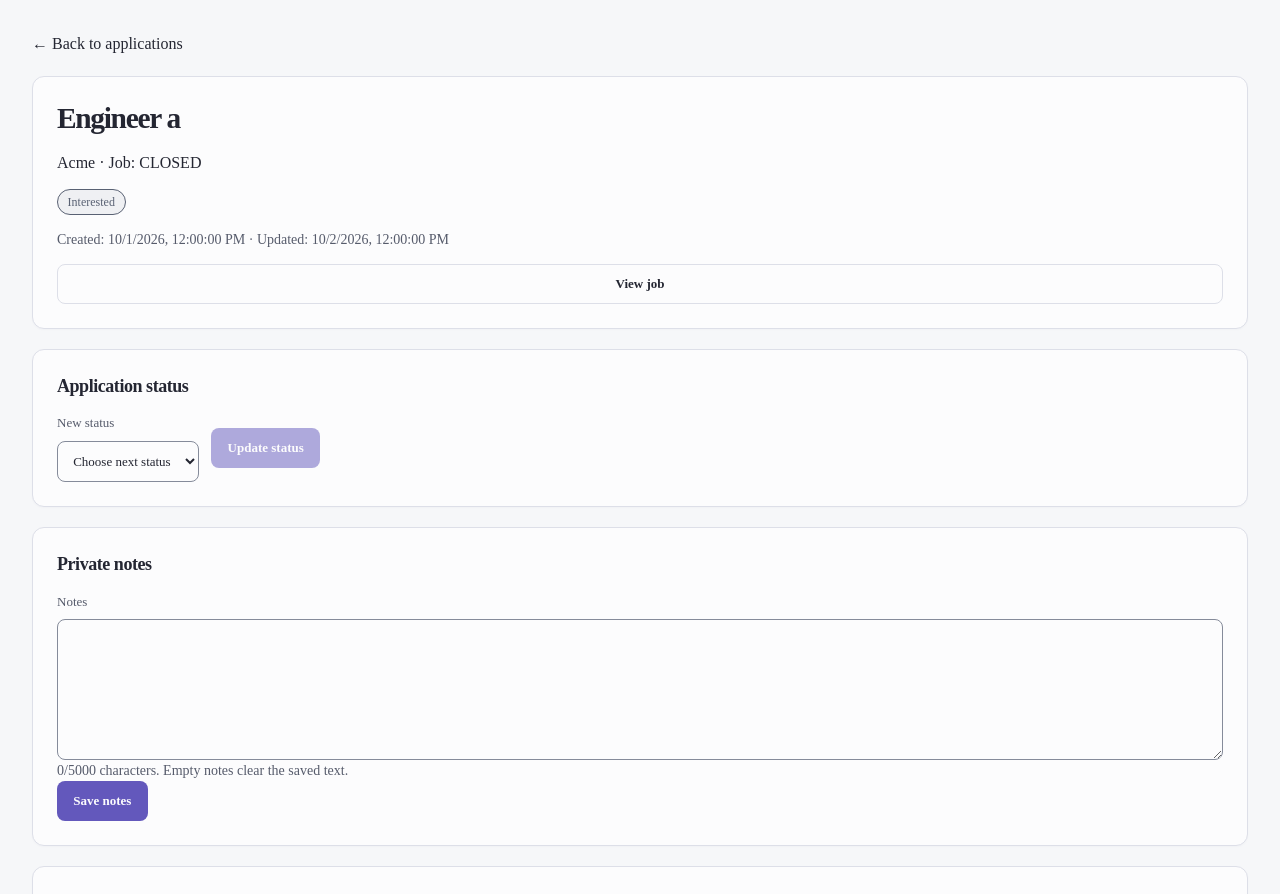
Scenario: Application management › retains prior status when backend rejects a transition
The width and height of the screenshot is (1280, 894).
Check: the heading "Engineer a" is shown, box [57,102,180,134]
Select "Applied" in the dropdown labelled "New status": (128, 462) [57,441,199,482]
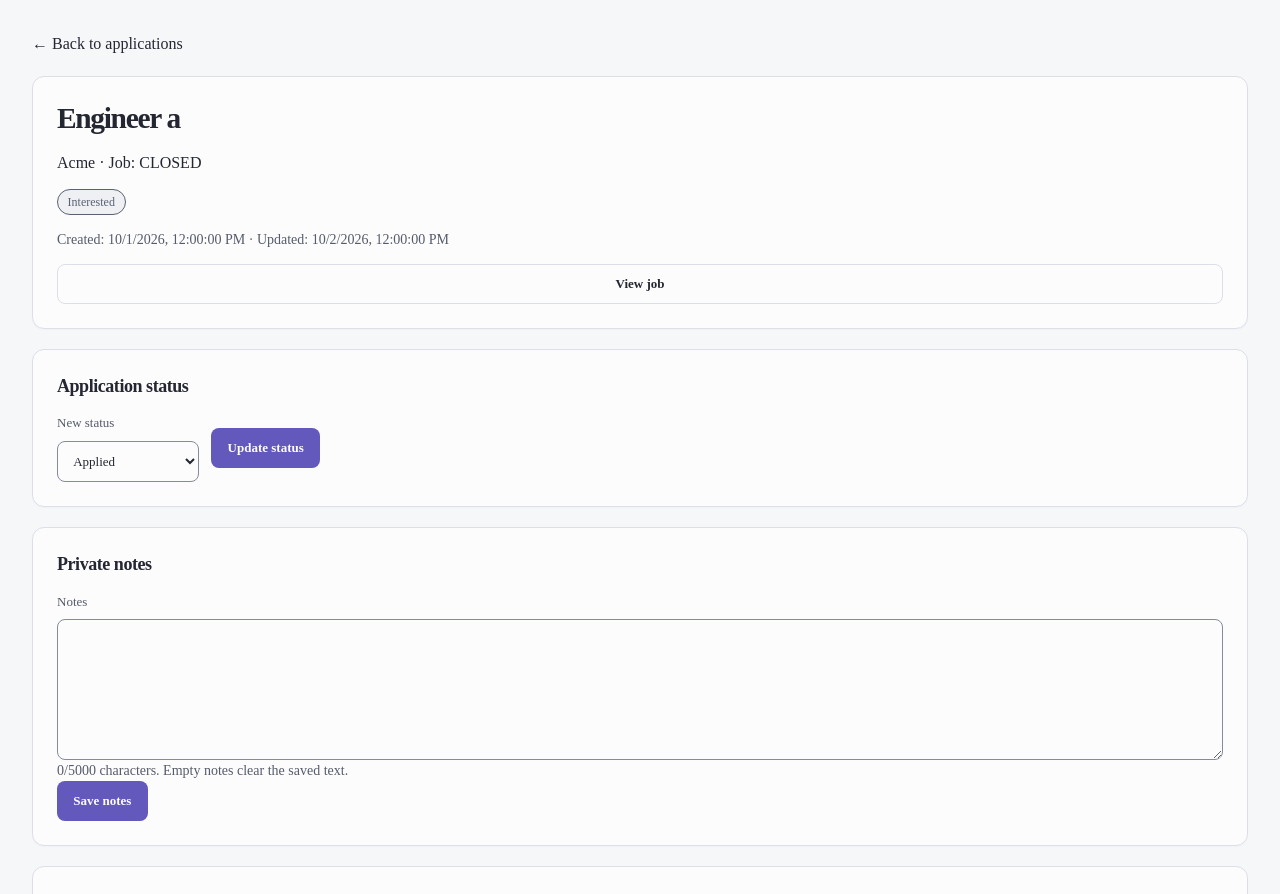
Click the button "Update status": click(266, 448) [211,428,320,468]
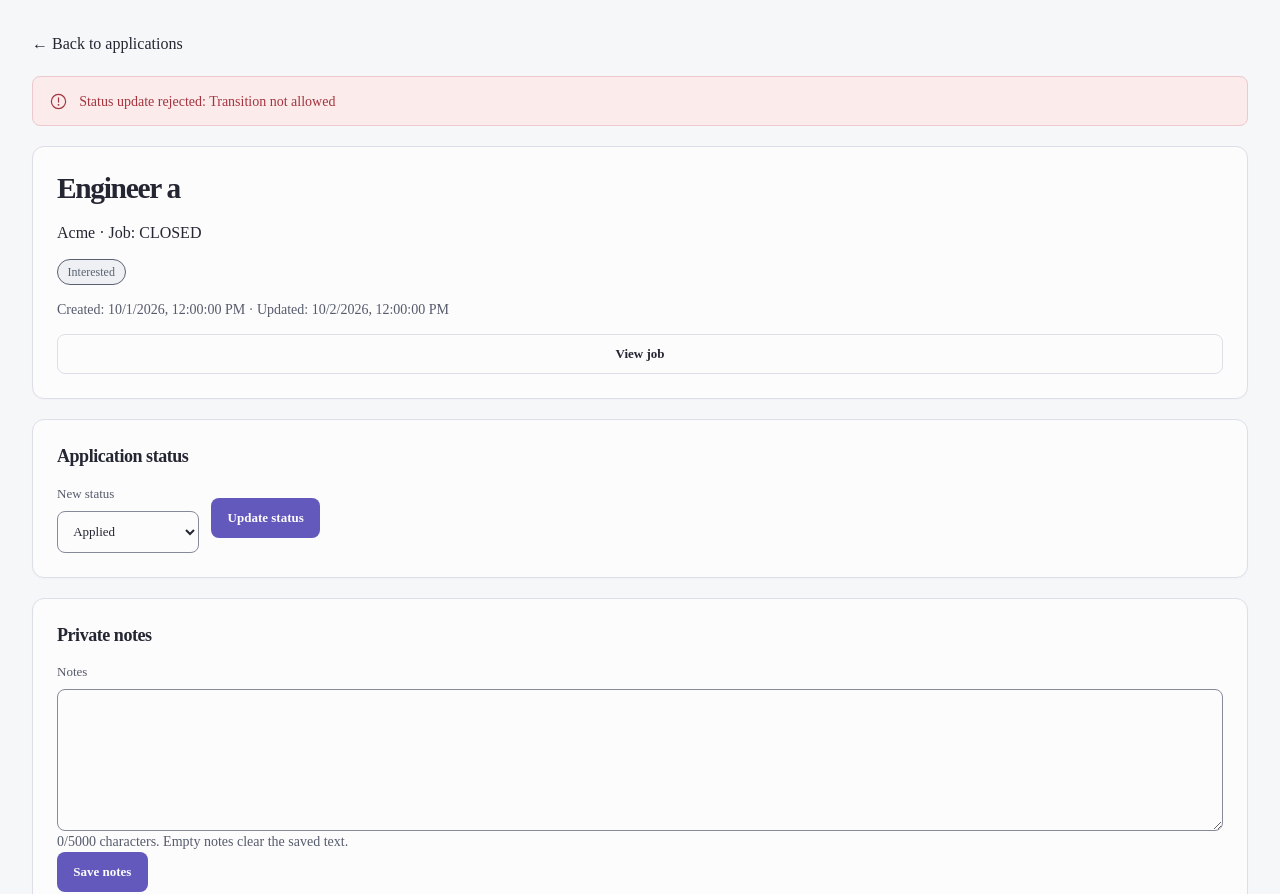
Check: the text "Interested" is shown, box [57,259,126,286]
Check: the message shows "Status update rejected", box [79,94,336,109]
